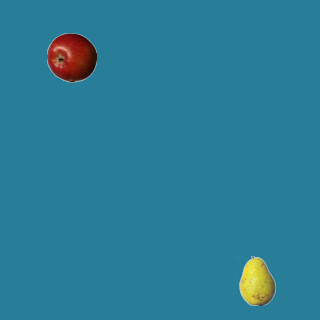Apple Braeburn: (46, 32, 96, 82)
Pear Monster: (232, 255, 282, 305)
